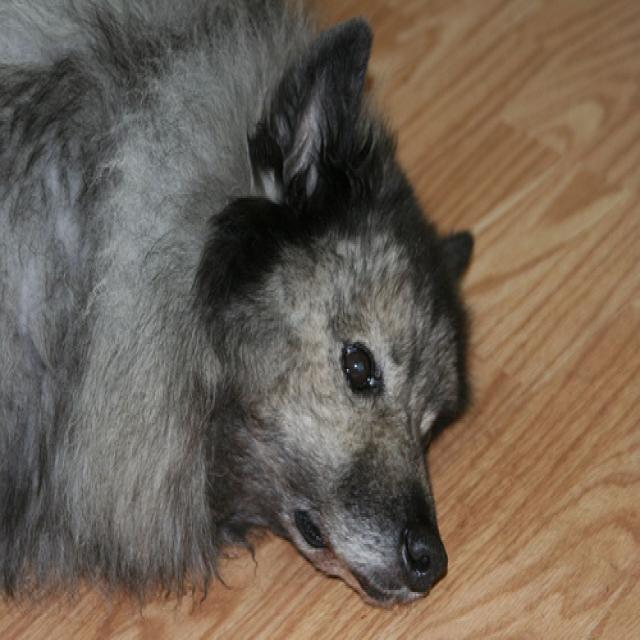dog-keeshond: (1, 2, 484, 615)
